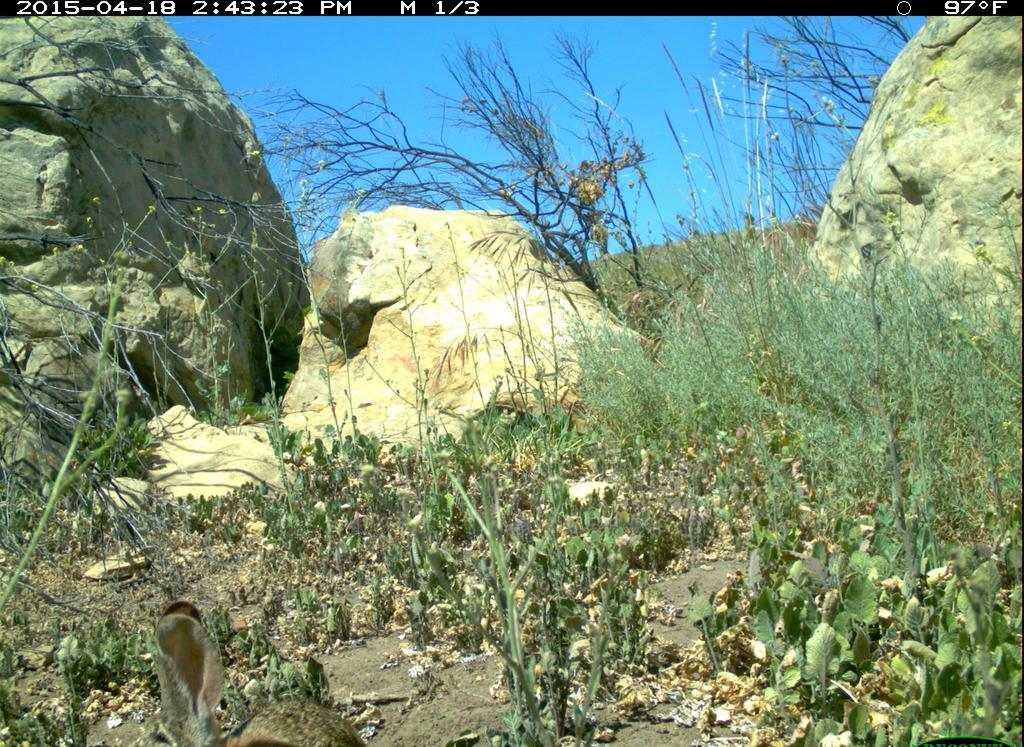rabbit: (118, 596, 378, 747)
